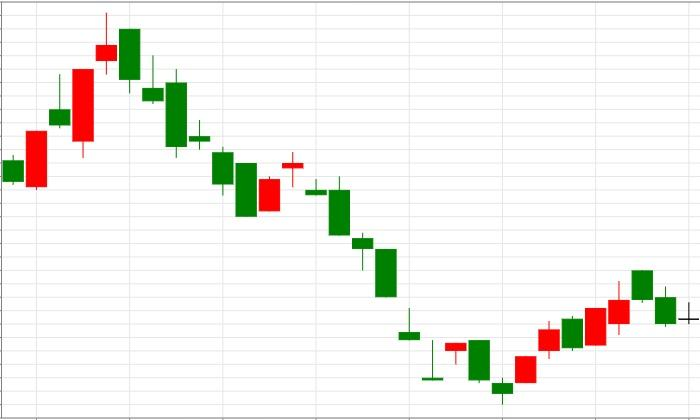morning_star_rise: (305, 175, 536, 404)
